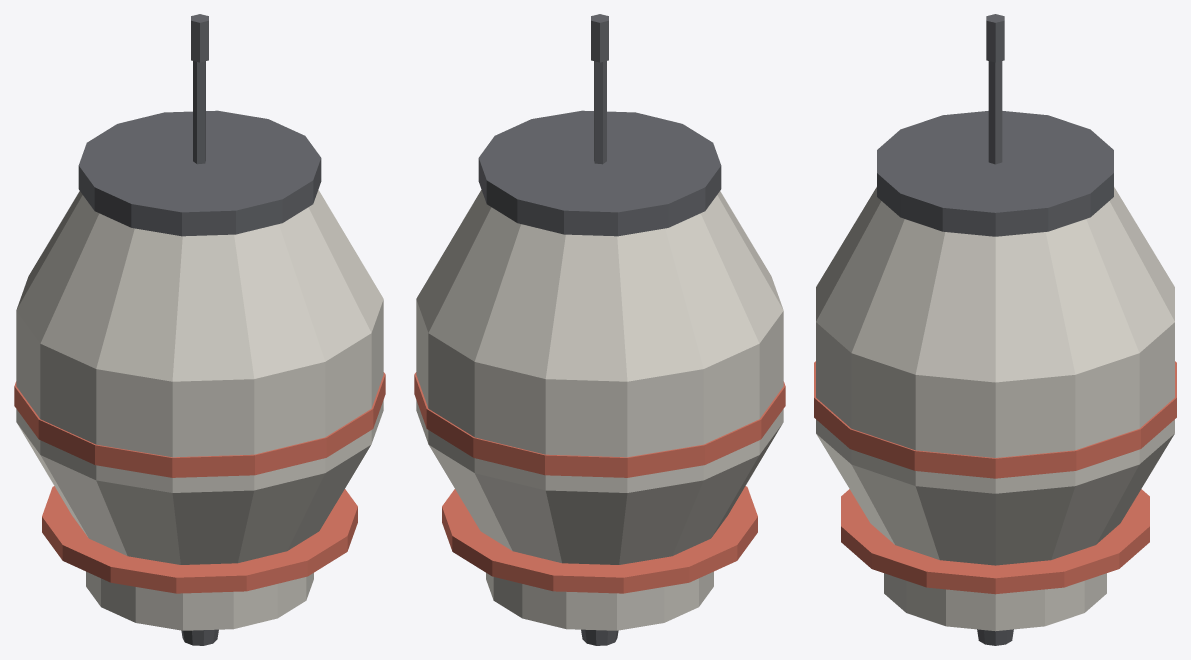
Rendered from round_paper_lantern.glb.
3 renders of one model, left to right at view 1: azimuth 30°, elevation 25°; view 2: azimuth 150°, elevation 25°; view 3: azimuth 270°, elevation 25°, orthographic.
Parts seen in each view (by area): view 1: paper-lantern-round-cream, paper-lantern-round-charcoal, paper-lantern-round-vermilion; view 2: paper-lantern-round-cream, paper-lantern-round-charcoal, paper-lantern-round-vermilion; view 3: paper-lantern-round-cream, paper-lantern-round-charcoal, paper-lantern-round-vermilion.
Part boxes in pixels (left/top/right/bottom): paper-lantern-round-cream: left=16, top=190, right=383, bottom=630; paper-lantern-round-charcoal: left=78, top=14, right=321, bottom=645; paper-lantern-round-vermilion: left=14, top=372, right=385, bottom=593; paper-lantern-round-cream: left=416, top=190, right=783, bottom=630; paper-lantern-round-charcoal: left=478, top=14, right=721, bottom=645; paper-lantern-round-vermilion: left=414, top=372, right=785, bottom=593; paper-lantern-round-cream: left=816, top=187, right=1174, bottom=631; paper-lantern-round-charcoal: left=877, top=14, right=1113, bottom=645; paper-lantern-round-vermilion: left=814, top=361, right=1176, bottom=594.
Bounding box in the file's own units: 0.4242 × 0.78 × 0.4136.
